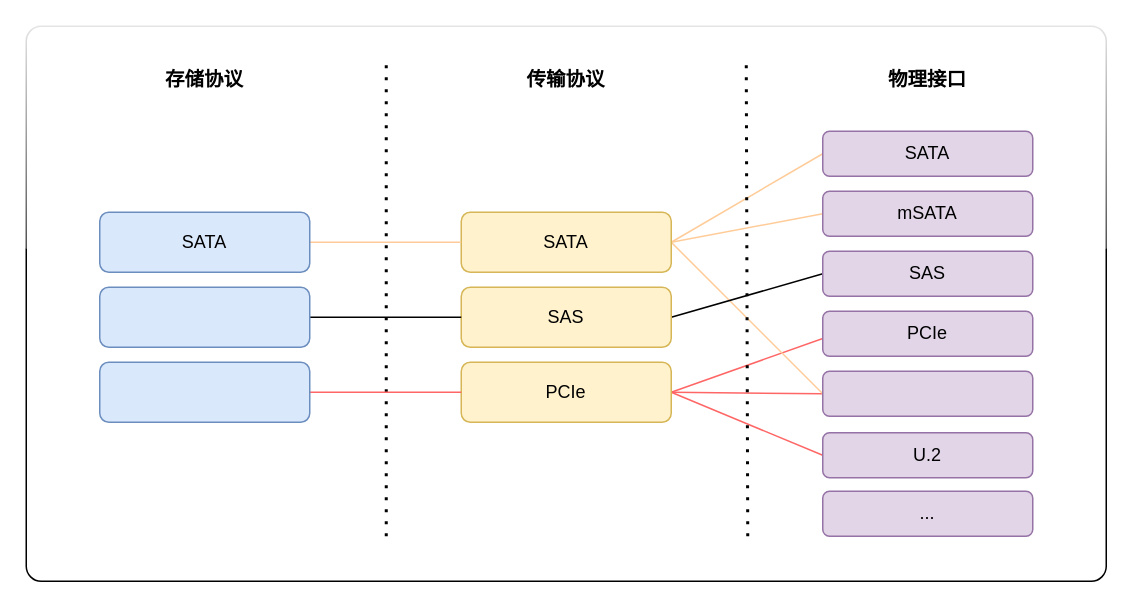
Image size: 1133x608. Some labels were removed from this diagram. Here are the shapes that lost their labels. From the top down, the box of each, then its label:
(98, 286, 310, 347): SCSI
(98, 361, 310, 422): NVMe
(821, 370, 1033, 416): m.2
